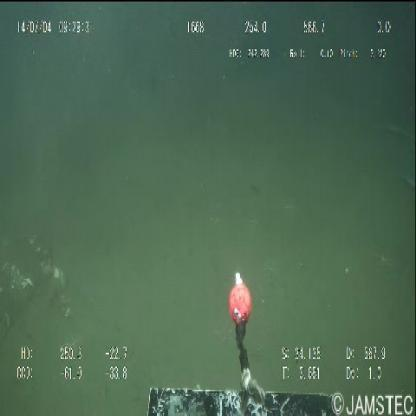Rác: (0, 230, 72, 341)
